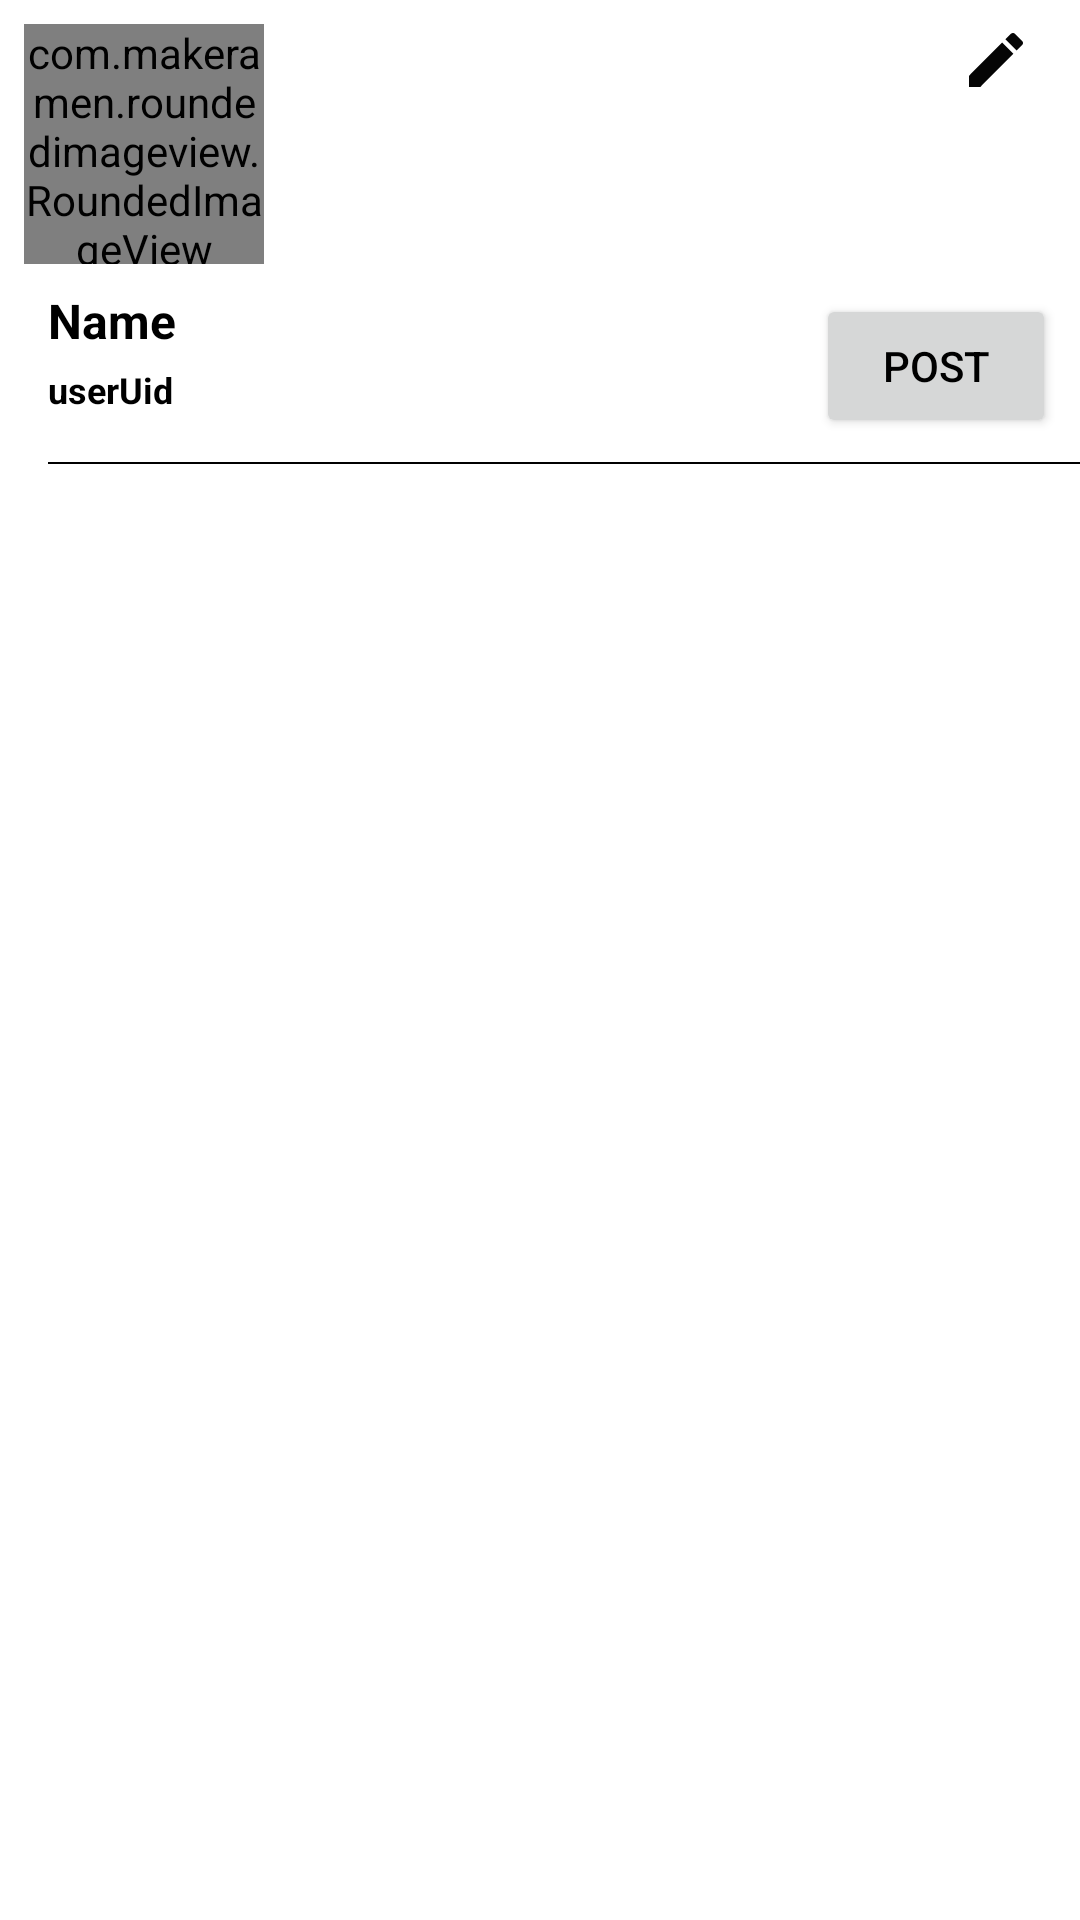

Icons on this 1080x1920 Android screen, each with its box as (x1, y1, x2, y2):
edit: (969, 33, 1023, 87)
